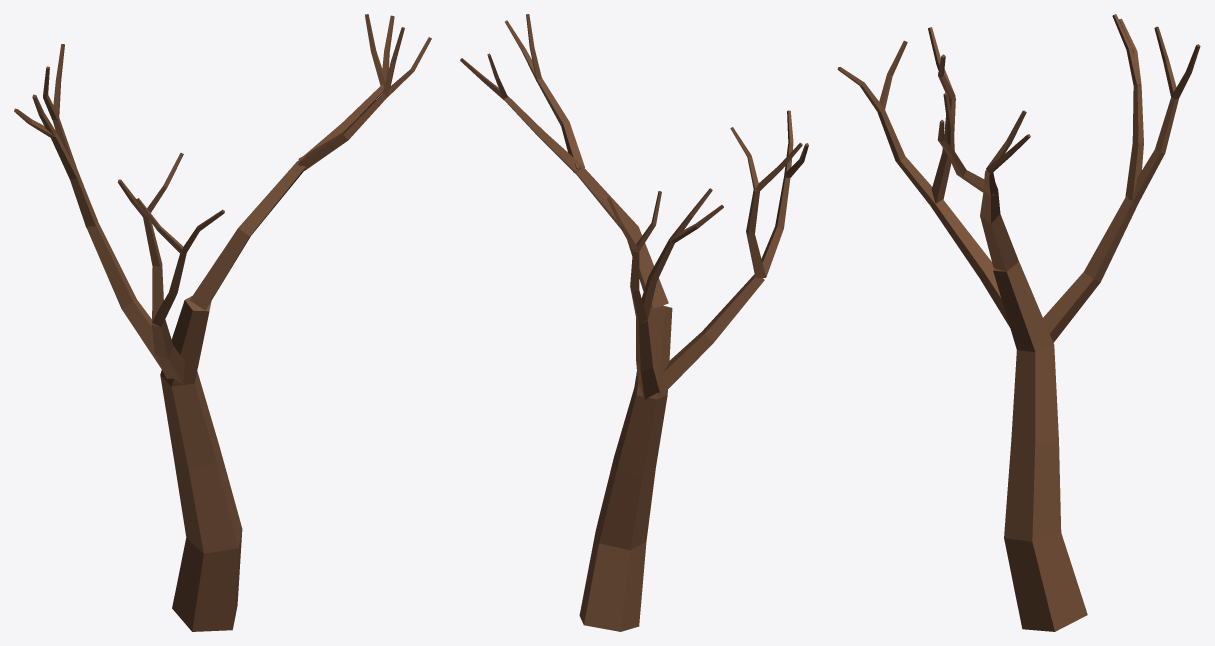
File: tree_dead_1.glb
3 views of the same model, side by side, from view 1: azimuth 30°, elevation 25°; view 2: azimuth 150°, elevation 25°; view 3: azimuth 270°, elevation 25° (orthographic). The views are drawn at different scales.
Visible parts, largest first — view 1: tree_dead_1; view 2: tree_dead_1; view 3: tree_dead_1.
Part boxes in pixels (x1,y1,x2,y2): tree_dead_1: (14,14,431,631); tree_dead_1: (460,14,808,631); tree_dead_1: (837,14,1200,631).
Bounding box in the file's own units: 2.63 × 4.49 × 2.46.
